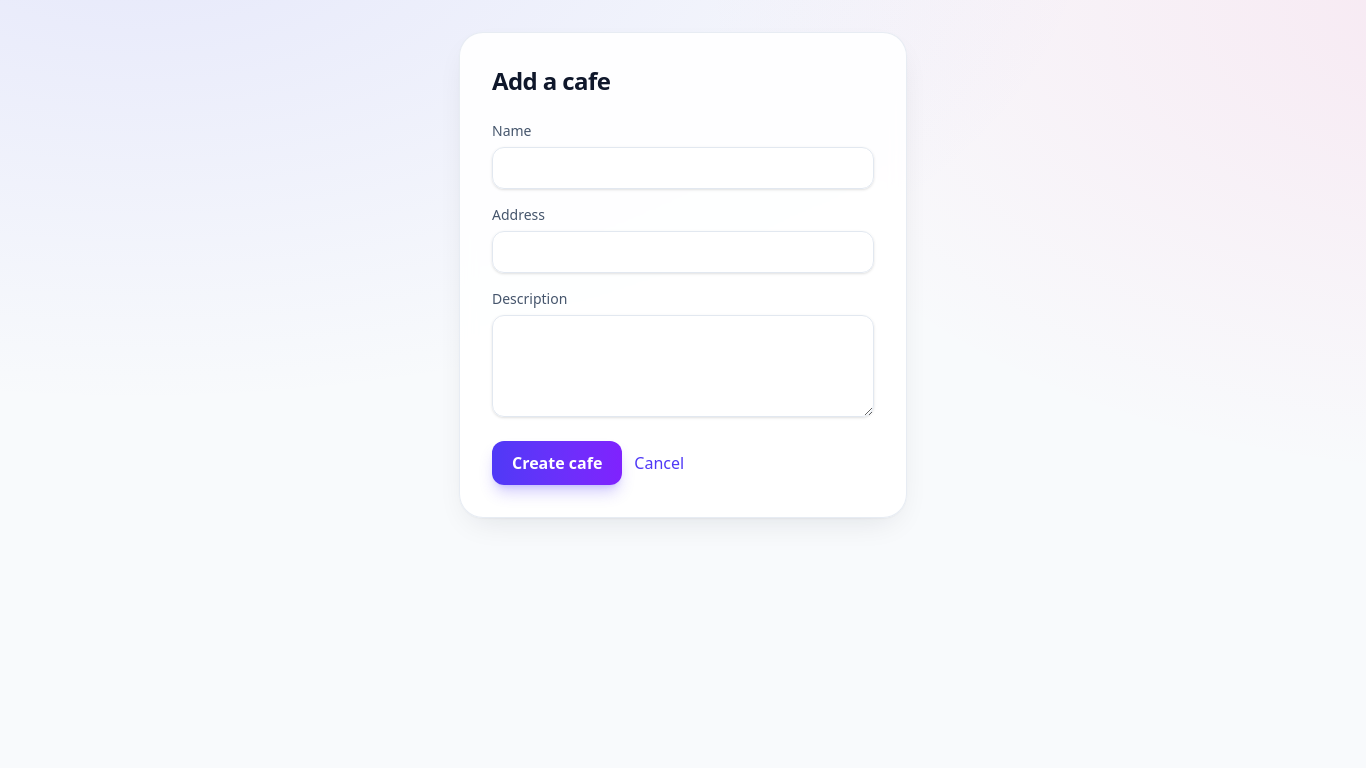
Scenario: CafeForm › warns about similar cafes while adding one
This screenshot has width=1366, height=768.
Type "Bean Ther" into the field labelled "Name" at (683, 168), box [492,147,874,189]
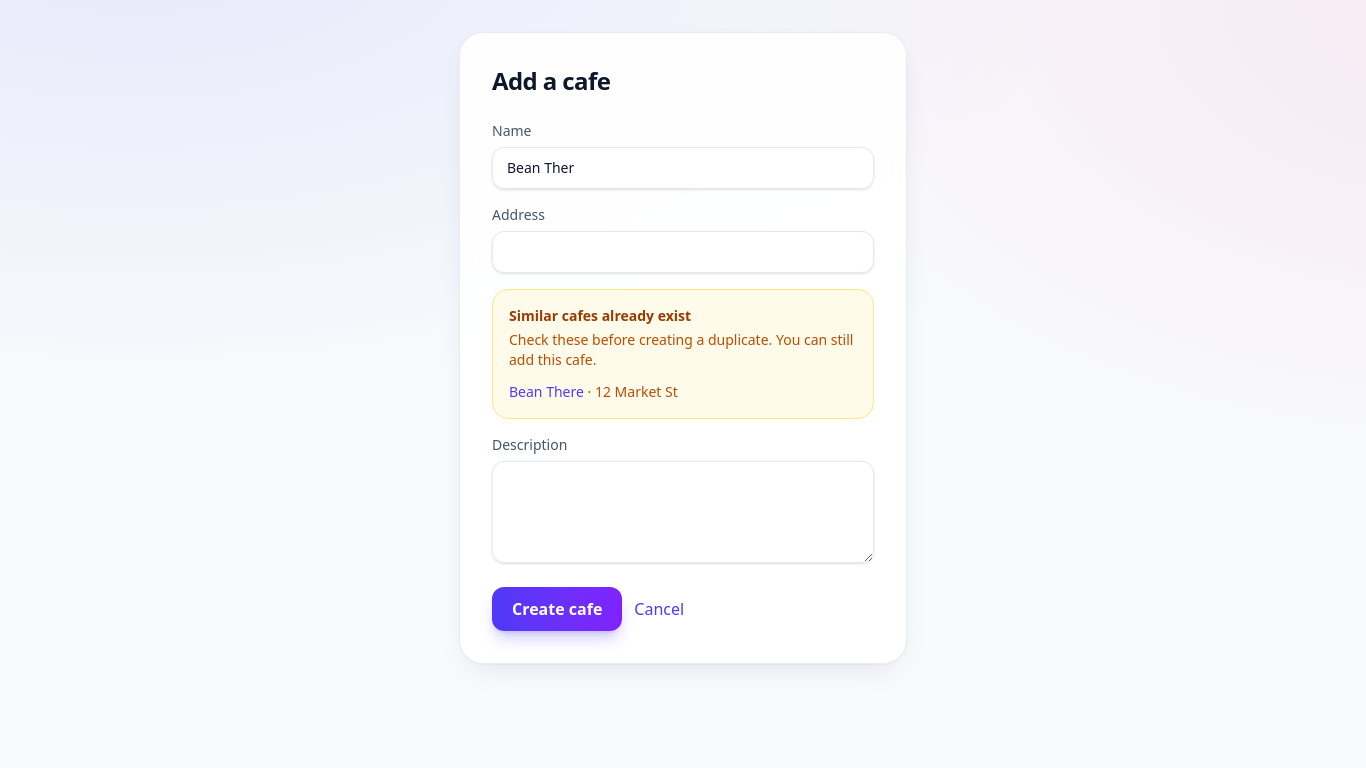
Result: the text "Similar cafes already exist" is shown at [509,306,691,325]
